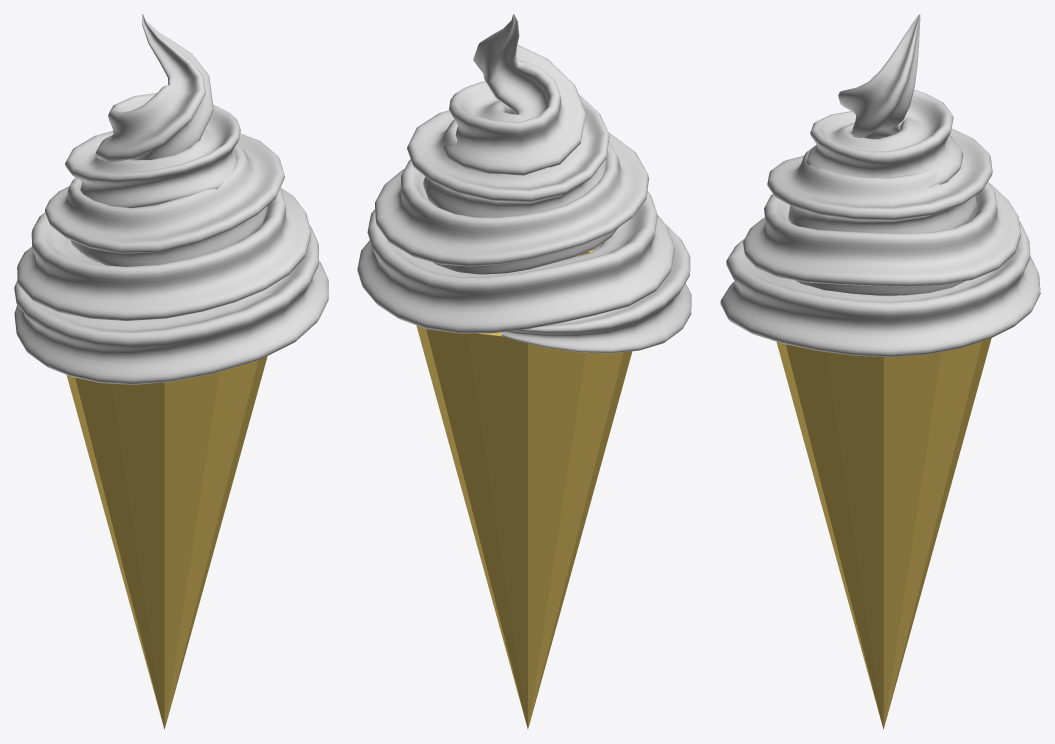
File: Ice_cream_1.fbx
3 views of the same model, side by side, from view 1: azimuth 30°, elevation 25°; view 2: azimuth 150°, elevation 25°; view 3: azimuth 270°, elevation 25° (orthographic). The views are drawn at different scales.
Visible parts, largest first — view 1: Ice_cream_1, Ice_cream_1.004; view 2: Ice_cream_1, Ice_cream_1.004; view 3: Ice_cream_1, Ice_cream_1.004.
Boxes of the visible parts, bbox=[...] form: Ice_cream_1: bbox=[14, 14, 328, 384]; Ice_cream_1.004: bbox=[66, 356, 267, 729]; Ice_cream_1: bbox=[357, 14, 691, 353]; Ice_cream_1.004: bbox=[416, 249, 632, 728]; Ice_cream_1: bbox=[720, 14, 1040, 357]; Ice_cream_1.004: bbox=[776, 338, 991, 729].
Size of the model in its own units: 19.43 by 46.51 by 18.91.
